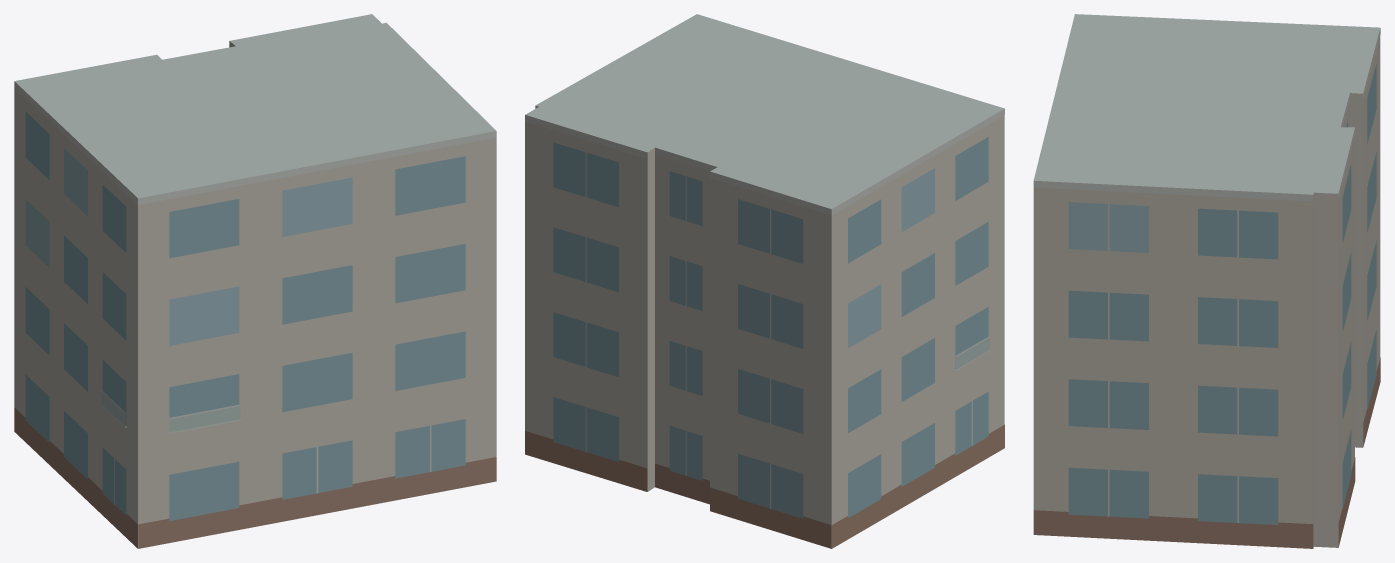
Rendered from survey-upis-32654973.glb.
3 renders of one model, left to right at view 1: azimuth 30°, elevation 25°; view 2: azimuth 150°, elevation 25°; view 3: azimuth 270°, elevation 25°, orthographic. The views are drawn at different scales.
Parts seen in each view (by area): view 1: survey-upis-32654973.tmp; view 2: survey-upis-32654973.tmp; view 3: survey-upis-32654973.tmp.
Part boxes in pixels (<box>): survey-upis-32654973.tmp: <box>14,14,496,548</box>; survey-upis-32654973.tmp: <box>525,14,1004,548</box>; survey-upis-32654973.tmp: <box>1033,14,1380,548</box>.
Bounding box in the file's own units: 14.02 × 12.8 × 11.38.
